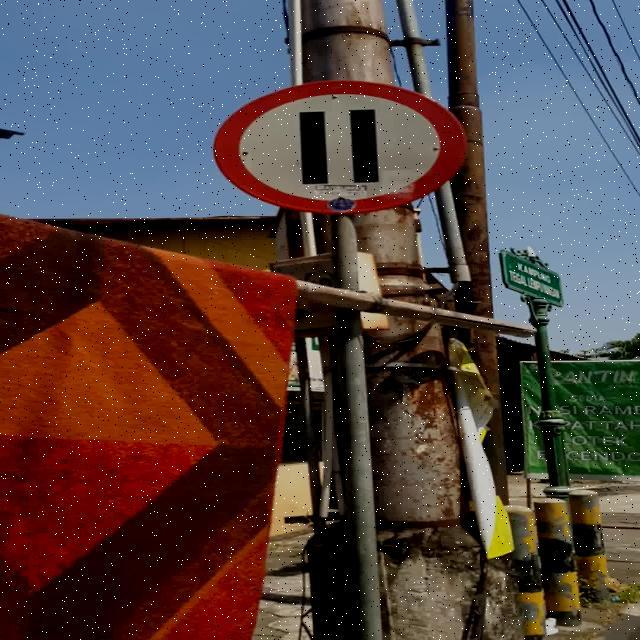Larangan Muatan - 10 ton: (214, 80, 466, 214)
